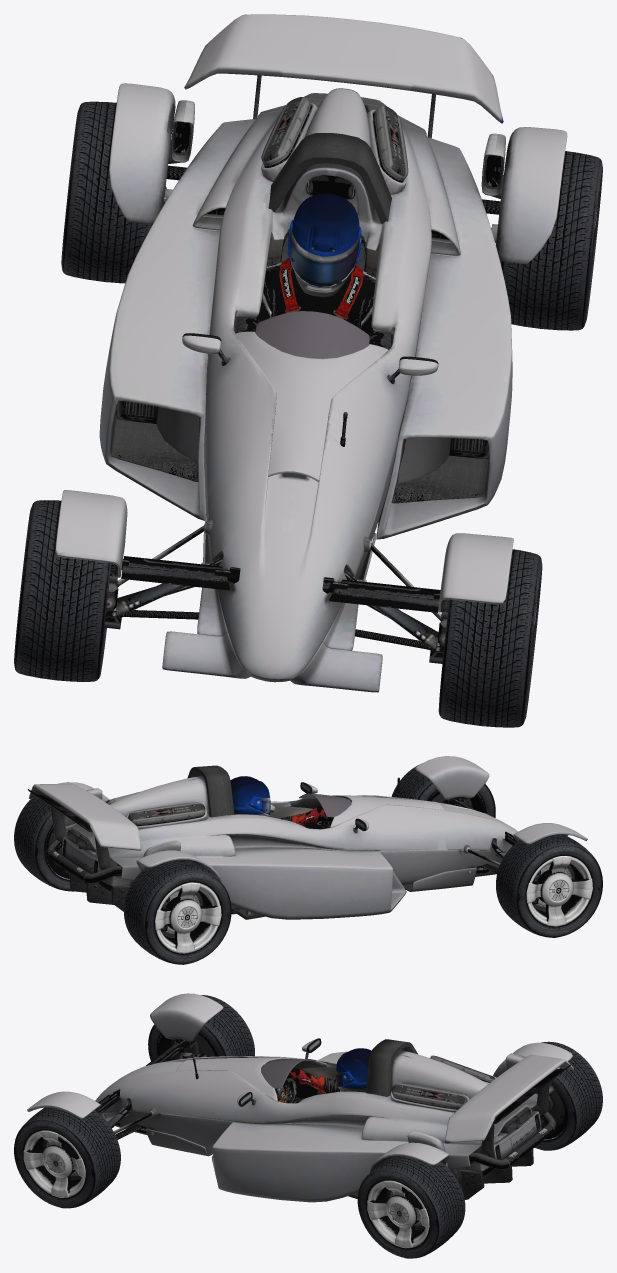
Rendered from tmnf_car.glb.
3 views of the same model, one above another, from view 1: azimuth 30°, elevation 25°; view 2: azimuth 150°, elevation 25°; view 3: azimuth 270°, elevation 25° (orthographic). The views are drawn at different scales.
Visible parts, largest first — view 1: Unassigned_0_ 4, Unassigned_1_ 4, Unassigned_1_ 7, Unassigned_1_ 8, Unassigned_1_ 6, Unassigned_1_ 5, Unassigned_0_ 3, Unassigned_0_ 2, 1PilHead, Unassigned_2, Unassigned_0_ 1, Unassigned_0 (+3 smaller); view 2: Unassigned_0_ 4, Unassigned_1_ 5, Unassigned_1_ 8, Unassigned_1_ 4, Unassigned_1_ 6, Unassigned_0, Unassigned_1_ 7, 1PilHead, Unassigned_0_ 3, Unassigned_0_ 1, Unassigned_3, Unassigned_2 (+1 smaller); view 3: Unassigned_0_ 4, Unassigned_1_ 4, Unassigned_1_ 6, Unassigned_1_ 7, Unassigned_1_ 5, Unassigned_1_ 8, Unassigned_0_ 1, Unassigned_0_ 2, 1PilHead, Unassigned_0, Unassigned_0_ 3, Unassigned_2 (+3 smaller).
Part boxes in pixels (x1,y1,x2,y2): Unassigned_0_ 4: [99, 14, 512, 692]; Unassigned_1_ 4: [110, 14, 488, 593]; Unassigned_1_ 7: [438, 549, 542, 727]; Unassigned_1_ 8: [14, 500, 111, 681]; Unassigned_1_ 6: [501, 151, 602, 330]; Unassigned_1_ 5: [61, 101, 152, 283]; Unassigned_0_ 3: [109, 83, 194, 223]; Unassigned_0_ 2: [481, 127, 567, 263]; 1PilHead: [287, 193, 361, 296]; Unassigned_2: [236, 258, 390, 349]; Unassigned_0_ 1: [55, 490, 127, 577]; Unassigned_0: [438, 533, 513, 612]; Unassigned_0_ 4: [29, 775, 518, 919]; Unassigned_1_ 5: [124, 860, 231, 964]; Unassigned_1_ 8: [496, 834, 602, 937]; Unassigned_1_ 4: [28, 765, 512, 919]; Unassigned_1_ 6: [14, 798, 73, 891]; Unassigned_0: [415, 756, 489, 799]; Unassigned_1_ 7: [391, 764, 495, 817]; 1PilHead: [230, 776, 270, 816]; Unassigned_0_ 3: [136, 840, 222, 882]; Unassigned_0_ 1: [513, 823, 587, 844]; Unassigned_3: [299, 793, 351, 817]; Unassigned_2: [280, 806, 326, 825]; Unassigned_0_ 4: [95, 1039, 573, 1202]; Unassigned_1_ 4: [113, 1038, 570, 1199]; Unassigned_1_ 6: [357, 1156, 465, 1258]; Unassigned_1_ 7: [14, 1107, 120, 1208]; Unassigned_1_ 5: [534, 1041, 602, 1150]; Unassigned_1_ 8: [148, 995, 254, 1061]; Unassigned_0_ 1: [150, 993, 223, 1041]; Unassigned_0_ 2: [368, 1130, 449, 1173]; 1PilHead: [336, 1048, 371, 1092]; Unassigned_0: [27, 1091, 100, 1119]; Unassigned_0_ 3: [493, 1042, 572, 1094]; Unassigned_2: [277, 1068, 366, 1103].
Bounding box in the file's own units: 3.78 × 1.52 × 4.17.
4 materials, 4 textured.
